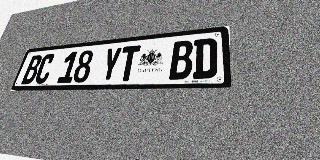1: (57, 51, 80, 83)
8: (72, 50, 95, 83)
B: (169, 40, 194, 80), (21, 55, 43, 84)
C: (33, 53, 56, 84)
D: (192, 38, 217, 79)
T: (117, 45, 141, 81)
Y: (99, 47, 123, 82)
